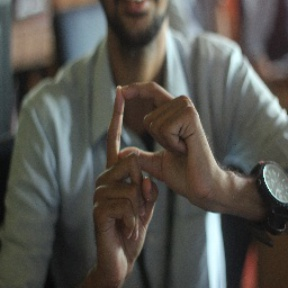D: (97, 75, 196, 190)
